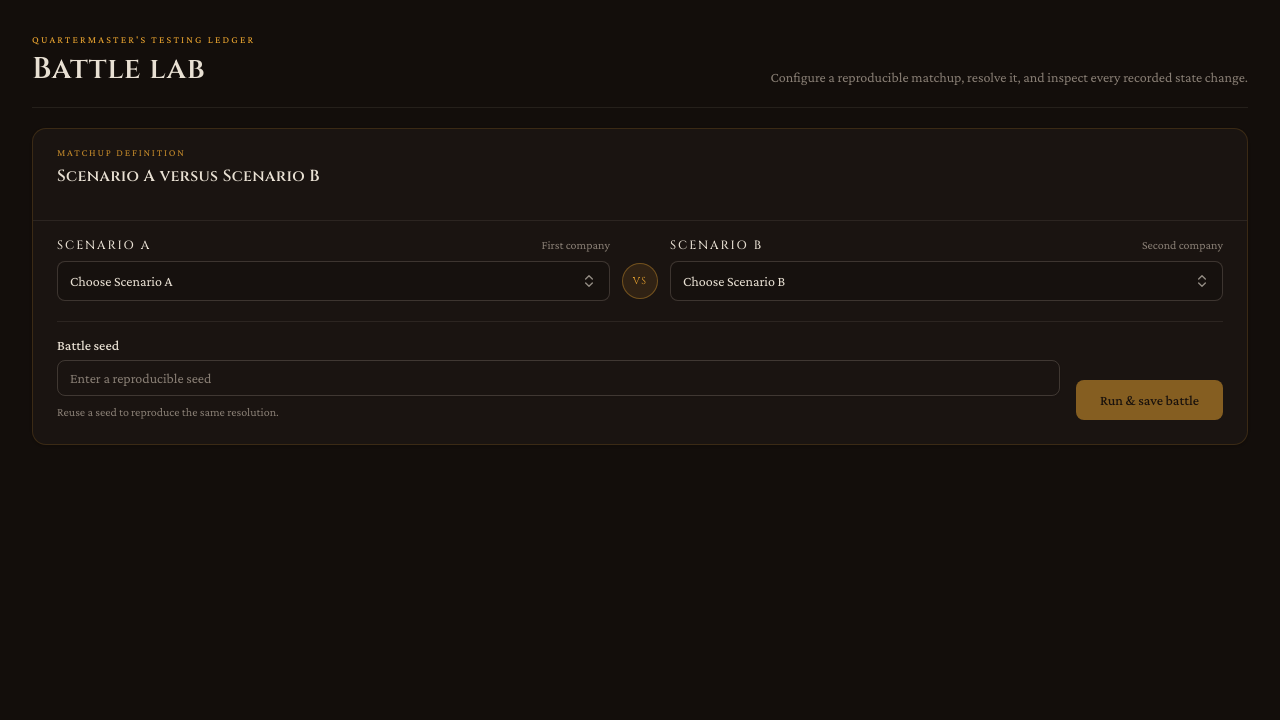
BattleWorkbench › ignores repeated submissions while replay creation is pending
Click the dropdown labelled "Scenario A": x=121, y=281 [57,261,610,301]
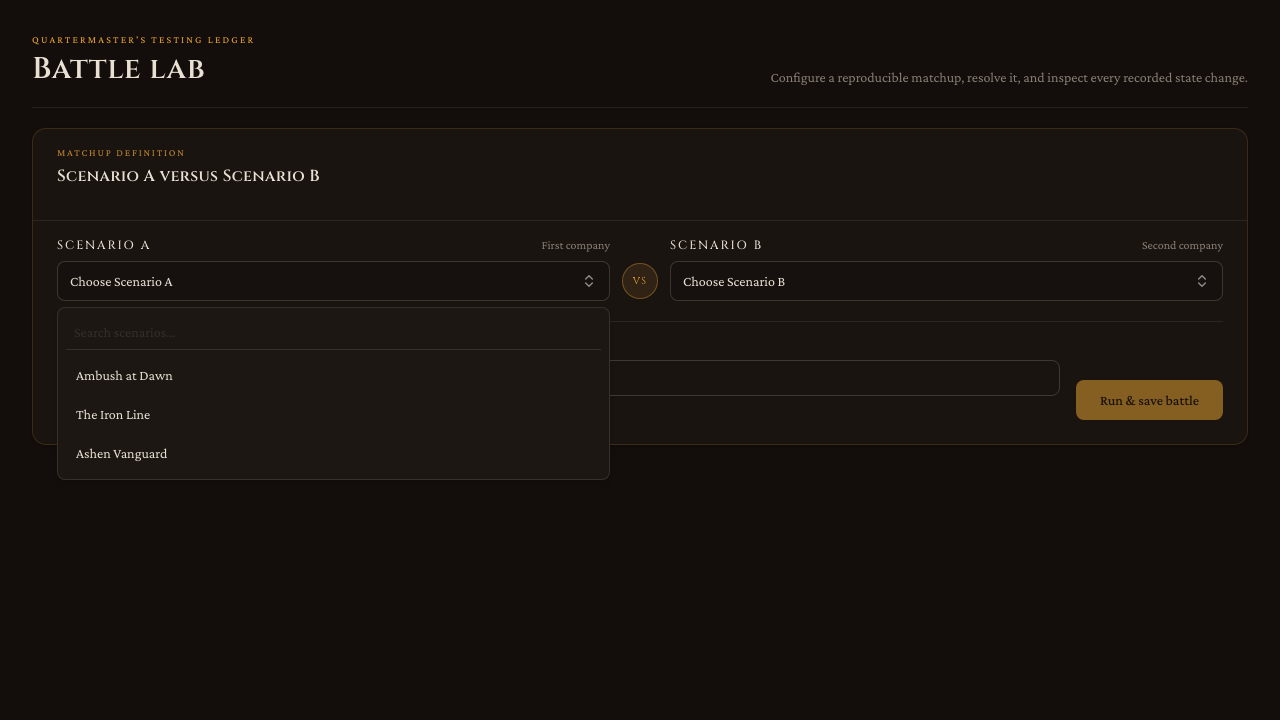
Click the option "Ambush at Dawn": x=124, y=375 [66,358,601,393]
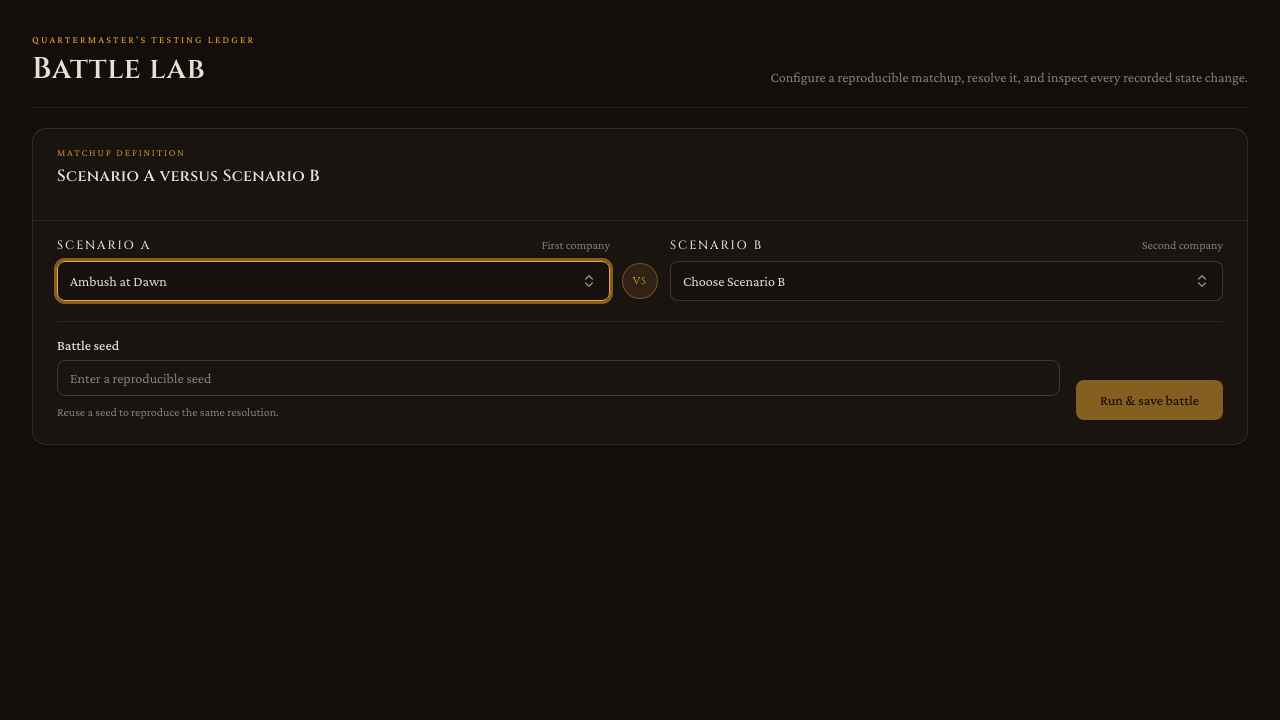
Click the dropdown labelled "Scenario B": x=734, y=281 [670,261,1223,301]
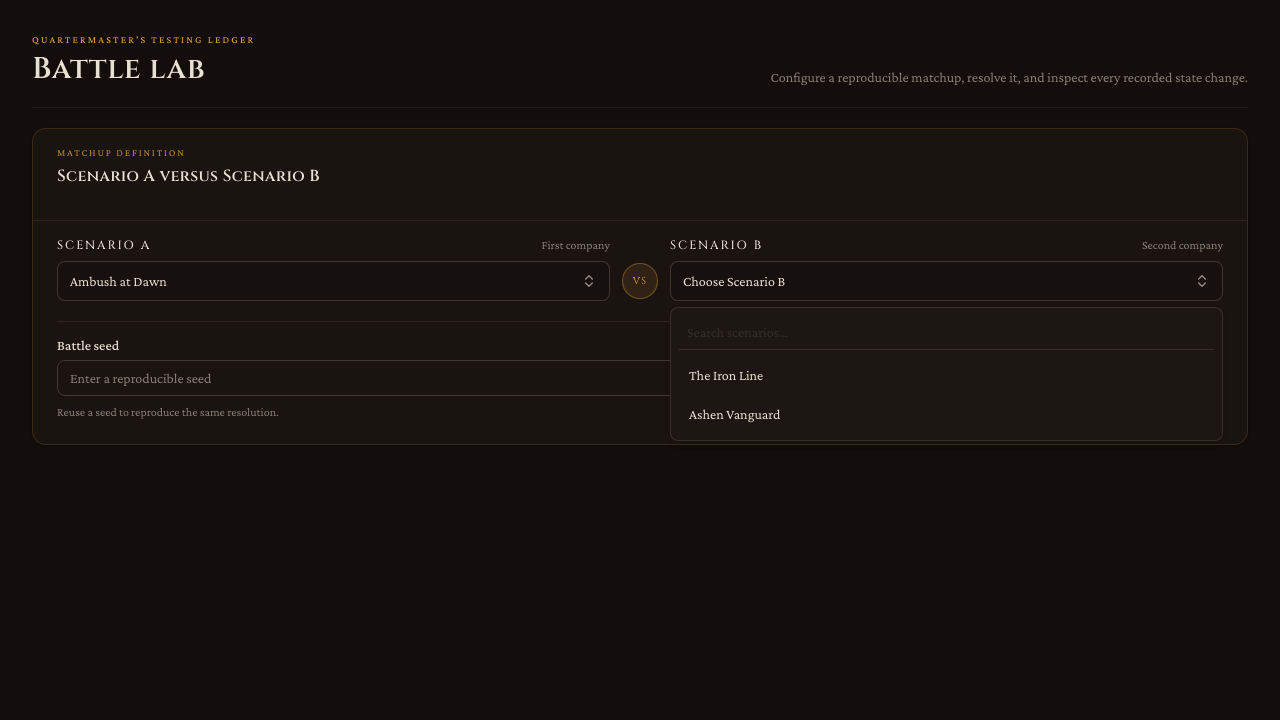
Click the option "The Iron Line": x=726, y=375 [679,358,1214,393]
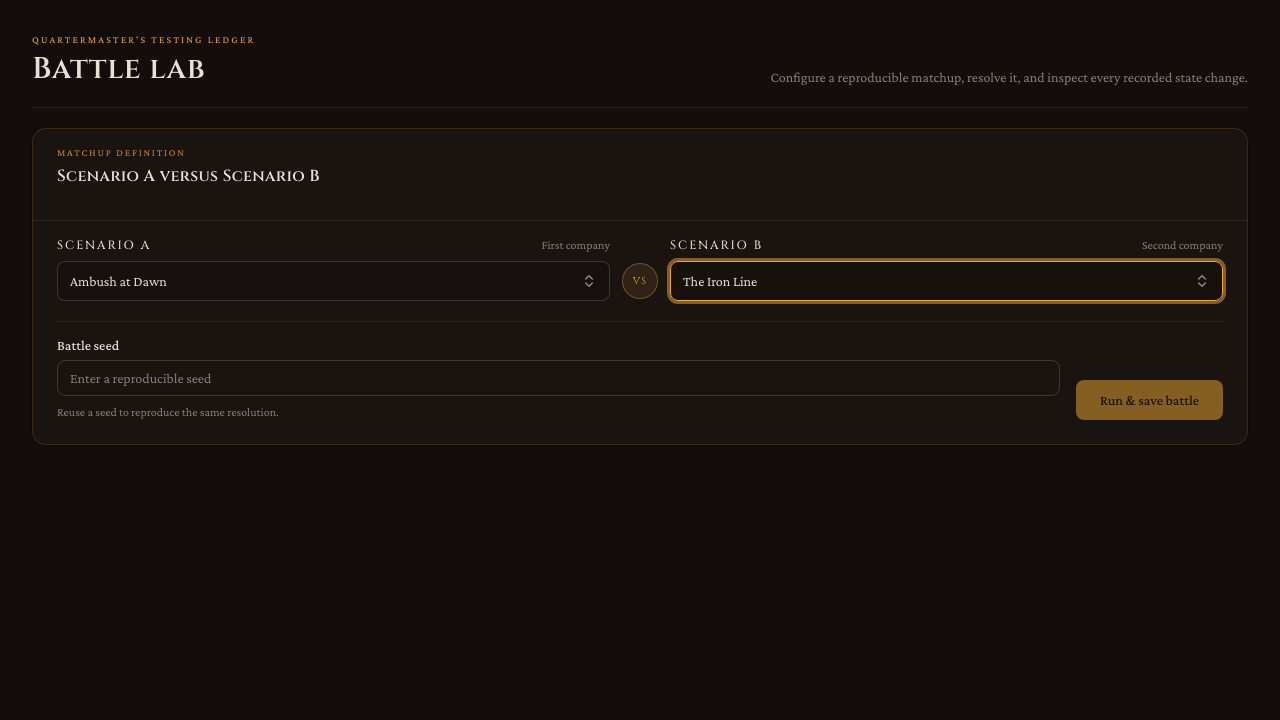
In the field labelled "Battle seed": x=558, y=378 [57,360,1060,396], type "  fixed-seed  "
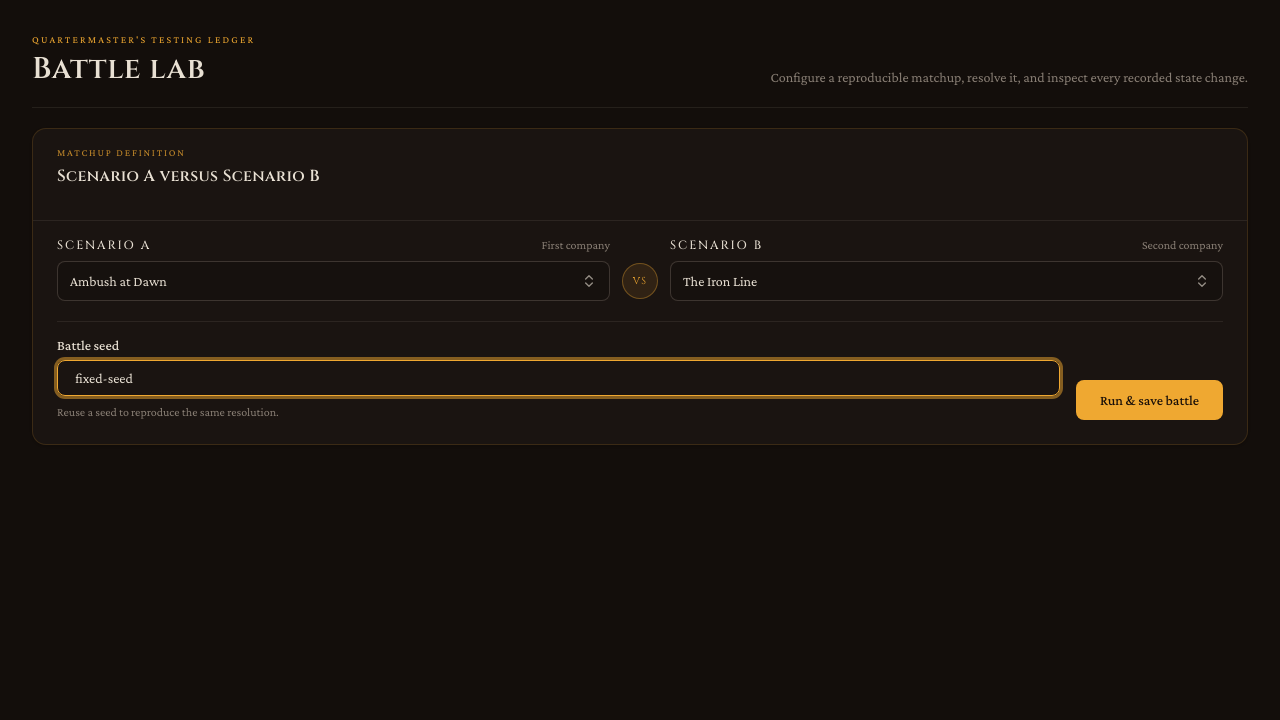
Submit the form named "Run & save battle", box [57,237,1223,420]
Submit the form named "Run & save battle", box [57,237,1223,420]
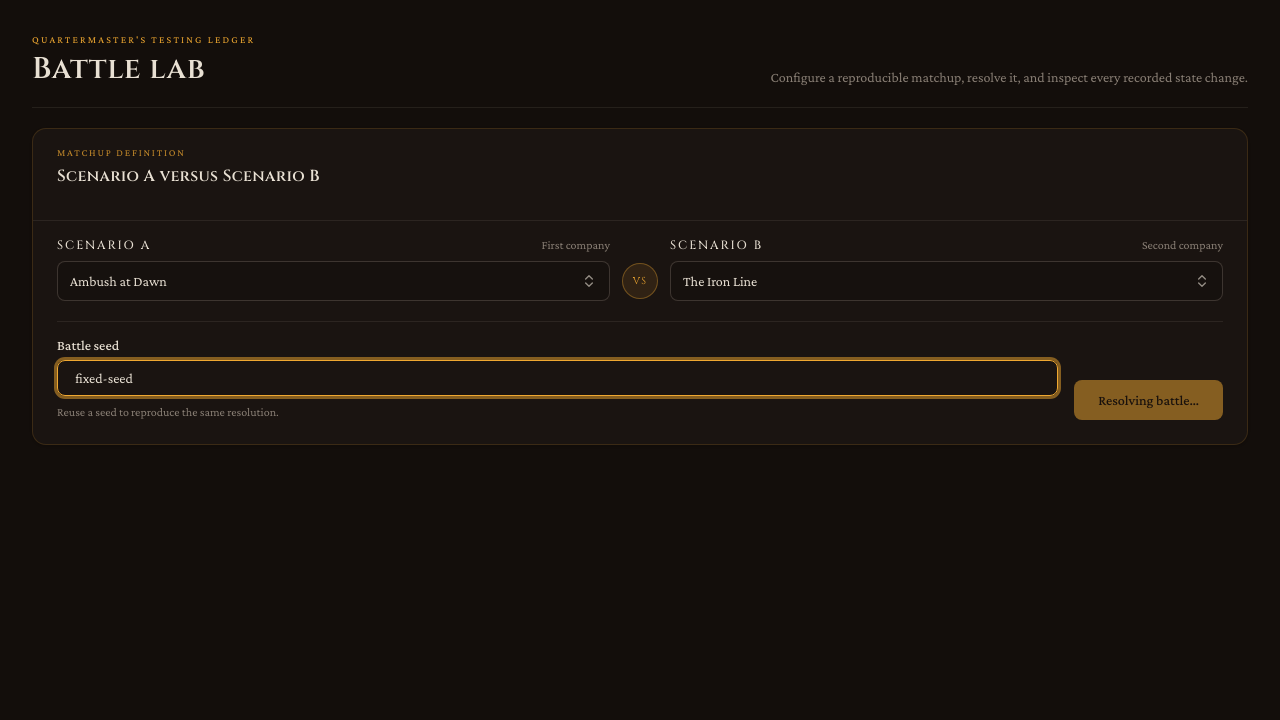
Now the button "Resolving battle…" is disabled, box [1074,380,1223,420]
